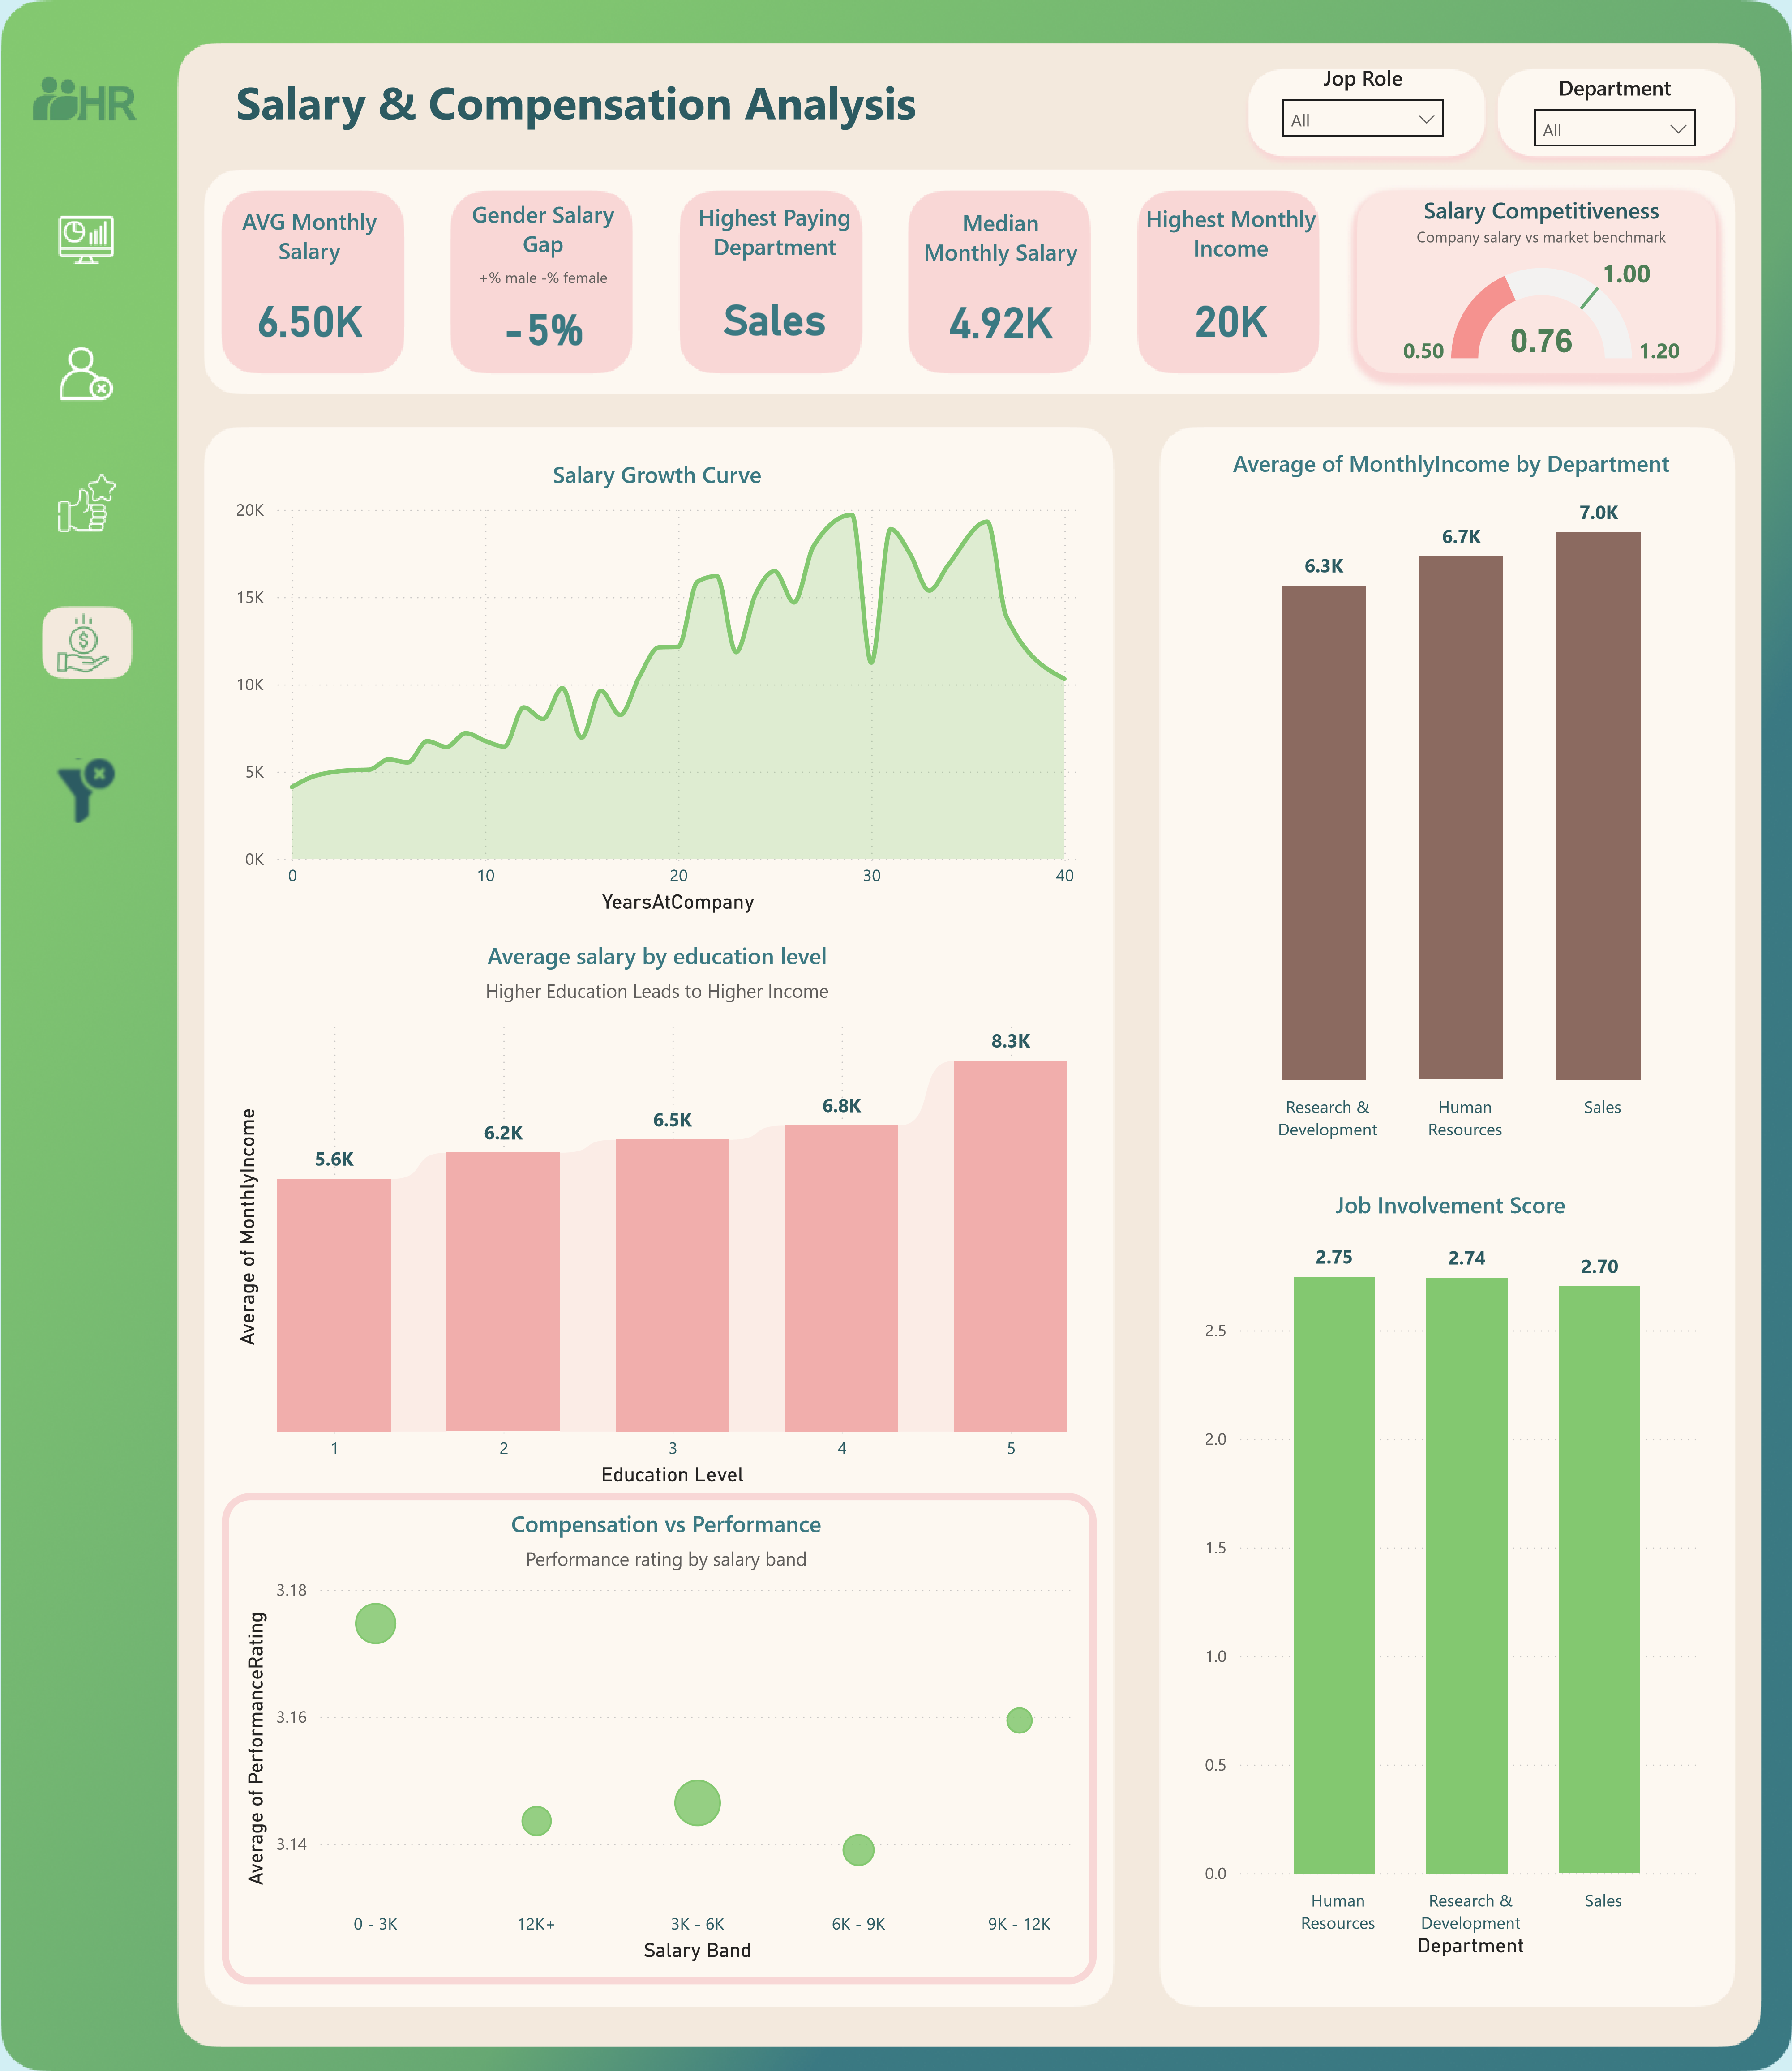

The dashboard page shown, as its layout file describes it:
{"tool":"powerbi","page":{"name":"Page 4","canvas":[1280,1480],"ordinal":3},"visuals":[{"type":"cardVisual","title":"AVG Monthly Salary","fields":{"Data":["Avg(Employees_Main.MonthlyIncome)"]},"box":[154.4,146.7,132.2,114.4],"z":0},{"type":"cardVisual","title":"Highest Paying Department","fields":{"Data":["Employees_Main.Highest Paying Department"]},"box":[487.8,144.4,130,116.7],"z":1000},{"type":"cardVisual","title":"Gender Salary Gap","fields":{"Data":["Employees_Main.Salary Gap %"]},"box":[325.6,142.2,123.3,116.7],"z":2000},{"type":"cardVisual","title":"Median Monthly Salary","fields":{"Data":["Employees_Main.Median Salary"]},"box":[653.3,147.8,122.2,114.4],"z":3000},{"type":"gauge","fields":{"Y":["Employees_Main.Salary Competitiveness"]},"box":[973.3,138.9,255.6,122.2],"z":4000},{"type":"clusteredColumnChart","fields":{"Category":["Employees_Main.Department","Employees_Main.JobRole"],"Y":["Avg(Employees_Main.MonthlyIncome)"]},"box":[851.1,320,371.1,502.2],"z":5000},{"type":"lineChart","title":"Salary Growth Curve","fields":{"Y":["Avg(Employees_Main.MonthlyIncome)"],"Category":["Employees_Main.YearsAtCompany"]},"box":[163.3,328.3,611.7,328.3],"z":6000},{"type":"clusteredColumnChart","title":"Job Involvement Score","fields":{"Category":["Employees_Main.Department","Employees_Main.JobRole"],"Y":["Avg(Employees_Main.JobInvolvement)"]},"box":[851.7,850,368.3,553.3],"z":7000},{"type":"textbox","box":[163.3,45,538.3,65],"z":8000},{"type":"slicer","title":"Department","fields":{"Values":["Employees_Main.Department"]},"box":[1085.9,52.1,135.2,57.7],"z":9000},{"type":"slicer","title":"Jop Role","fields":{"Values":["Employees_Main.JobRole"]},"box":[905.6,45.1,135.2,66.2],"z":10000},{"type":"actionButton","box":[34.4,536.2,54,56.4],"z":11000},{"type":"columnChart","title":"Average salary by education level","fields":{"Category":["Employees_Main.Education"],"Y":["Avg(Employees_Main.MonthlyIncome)"]},"box":[163.3,671.7,611.7,395],"z":12000},{"type":"scatterChart","title":"Compensation vs Performance","fields":{"Size":["CountNonNull(Employees_Main.Employee_ID)"],"X":["Employees_Main.Salary Band"],"Y":["Employees_Main.PerformanceRating"]},"box":[158.3,1066.7,625,351.7],"z":13000},{"type":"cardVisual","title":"Highest Monthly Income","fields":{"Data":["Employees_Main.Max income"]},"box":[813.3,145,131.7,116.7],"z":14000},{"type":"pageNavigator","box":[15.7,110,91.4,421.4],"z":15000}]}

Visuals, with their boxes in screenshot pixels (x1, y1, x2, y2), scaled from the page's 1280x1480 canvas onto the 1792x2071 screenshot:
"AVG Monthly Salary" cardVisual: region(216, 205, 401, 365)
"Highest Paying Department" cardVisual: region(683, 202, 865, 365)
"Gender Salary Gap" cardVisual: region(456, 199, 629, 362)
"Median Monthly Salary" cardVisual: region(915, 207, 1086, 367)
gauge - Employees_Main.Salary Competitiveness: region(1363, 194, 1720, 365)
clusteredColumnChart - Employees_Main.Department x Employees_Main.JobRole: region(1192, 448, 1711, 1151)
"Salary Growth Curve" lineChart: region(229, 459, 1085, 919)
"Job Involvement Score" clusteredColumnChart: region(1192, 1190, 1708, 1964)
textbox: region(229, 63, 982, 154)
"Department" slicer: region(1520, 73, 1710, 154)
"Jop Role" slicer: region(1268, 63, 1457, 156)
actionButton: region(48, 750, 124, 829)
"Average salary by education level" columnChart: region(229, 940, 1085, 1493)
"Compensation vs Performance" scatterChart: region(222, 1493, 1097, 1985)
"Highest Monthly Income" cardVisual: region(1139, 203, 1323, 366)
pageNavigator: region(22, 154, 150, 744)
